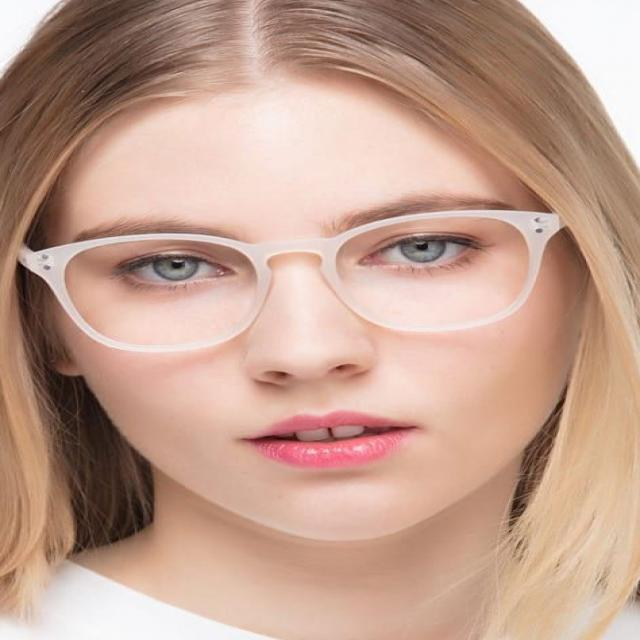Glasses: (14, 202, 573, 358)
